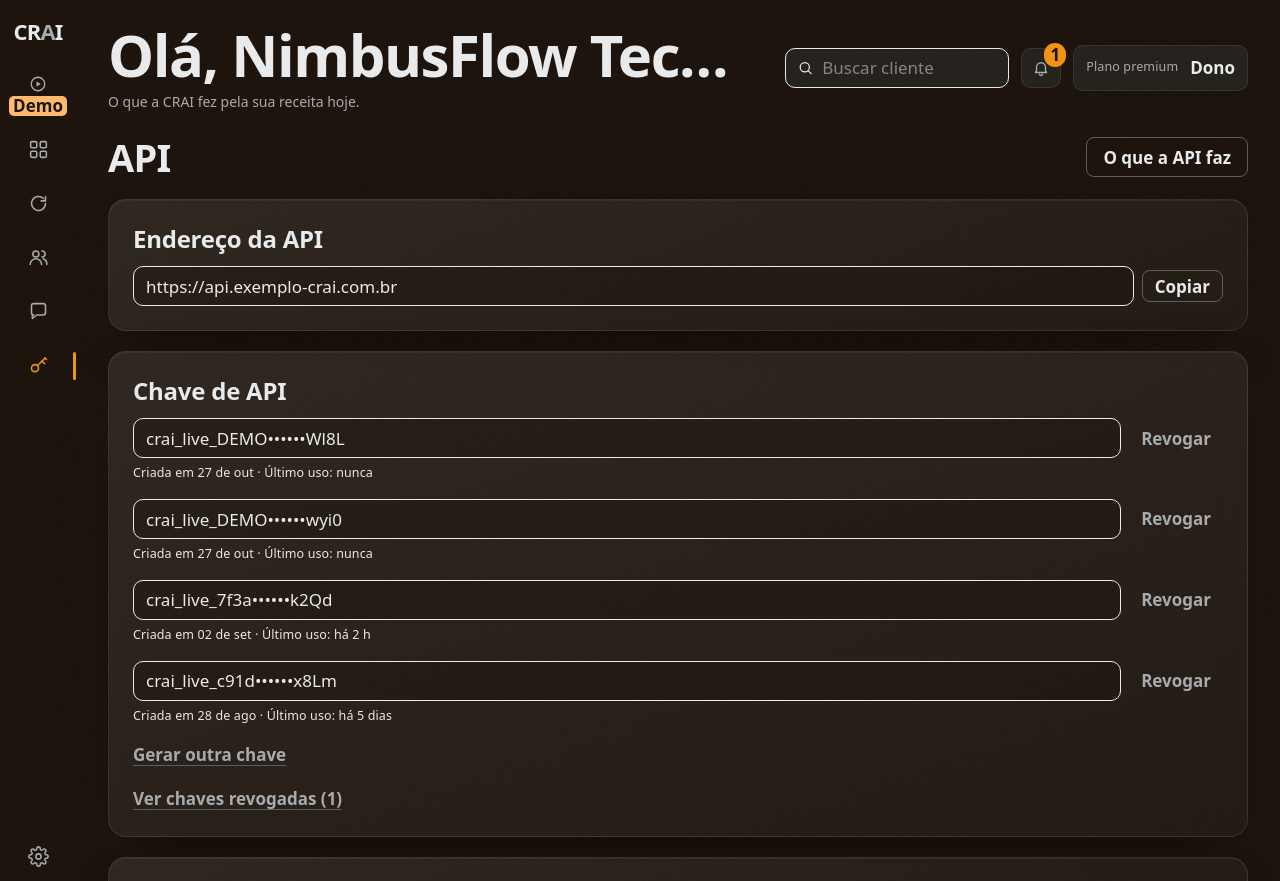
aba API em demonstração: gerar e revogar › revogar pede confirmação dentro da tela, nunca pelo confirm() do navegador
Primeiro clique: só a pergunta. Cancelar não revoga.
Click the 1st button "Revogar" at x=1176, y=438, box top-left (1129, 422), bottom-right (1223, 454)
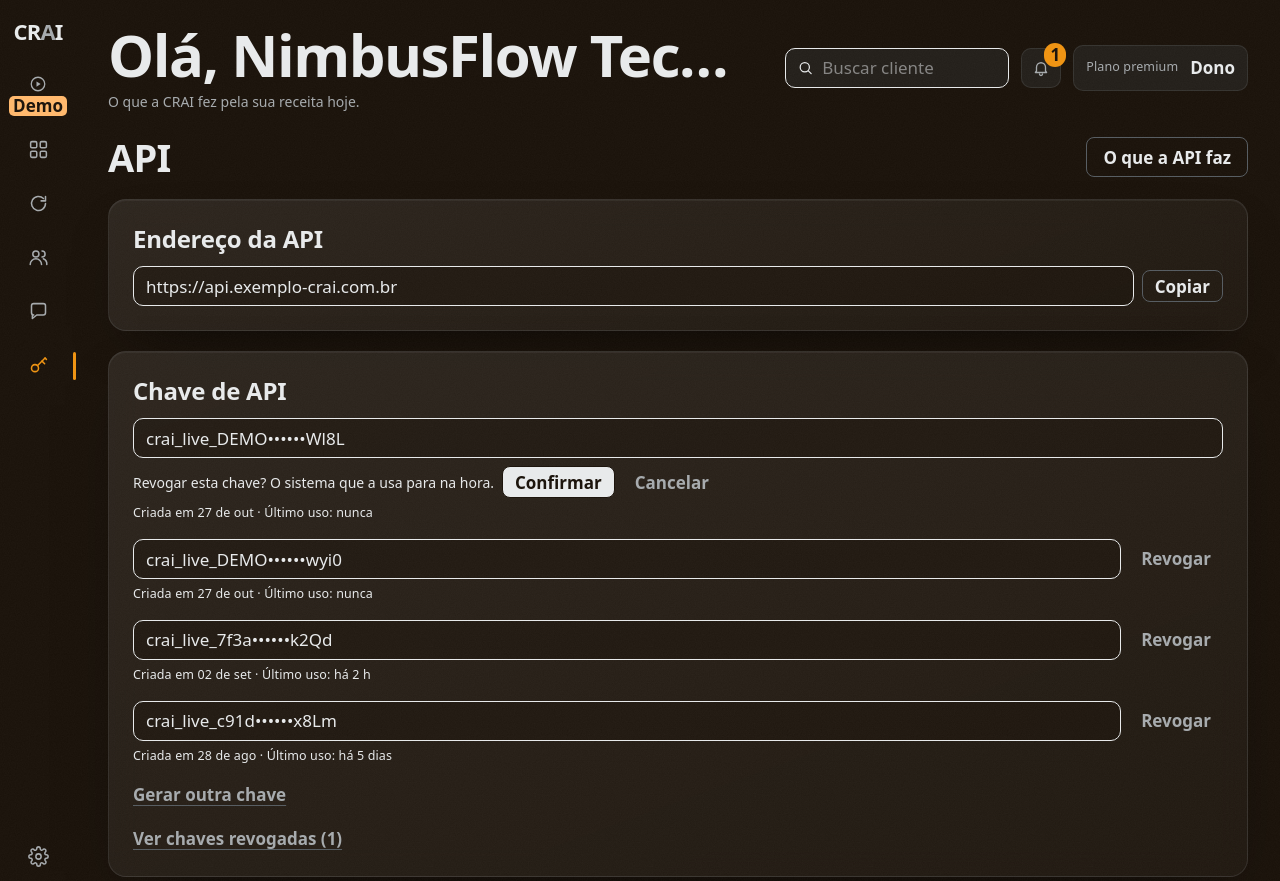
expect the text "Revogar esta chave? O sistema que a usa para na hora." is shown: met, box top-left (133, 472), bottom-right (494, 493)
Click the button "Cancelar" at x=672, y=482, box top-left (623, 466), bottom-right (721, 498)
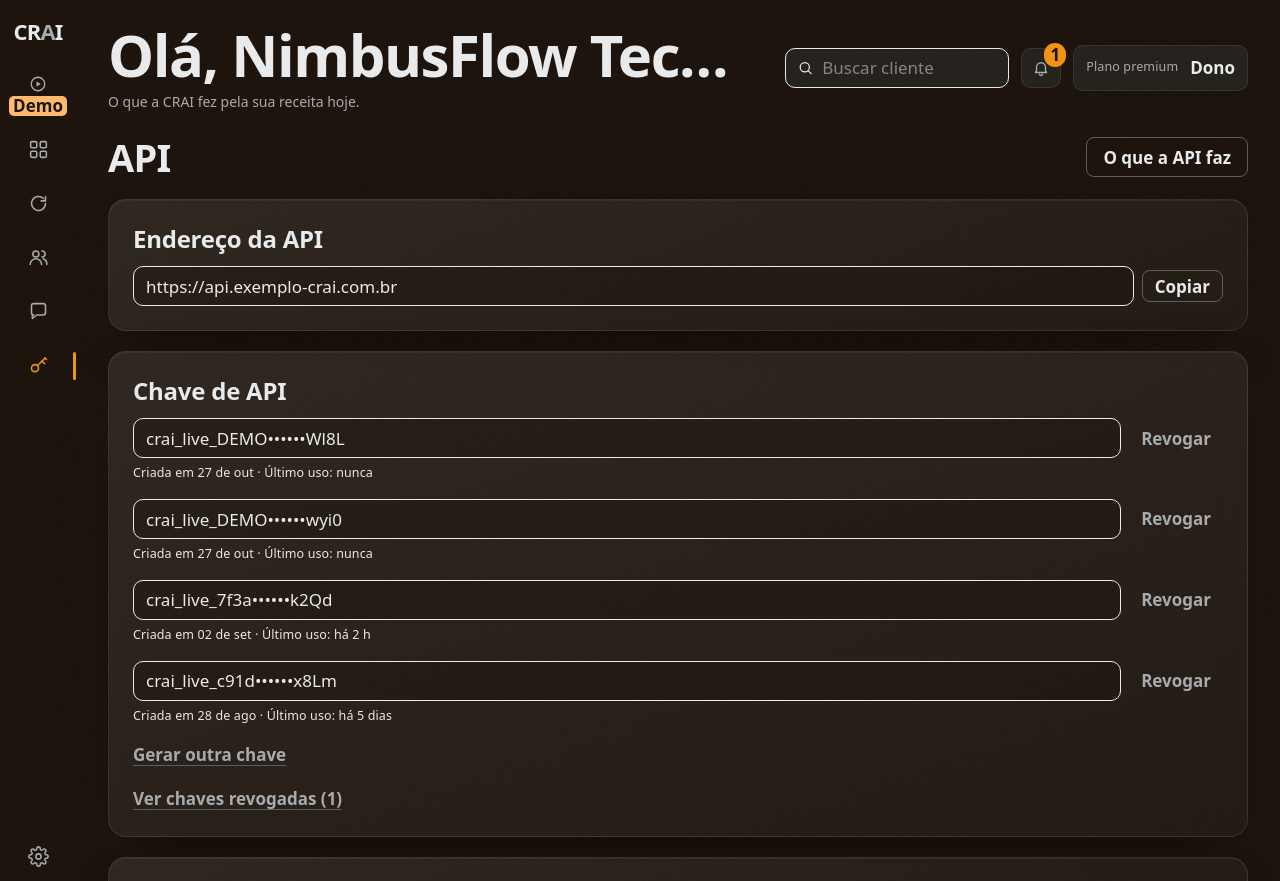
Confirmar revoga: o campo some das ativas e vai para as revogadas.
Click the 1st button "Revogar" at x=1176, y=438, box top-left (1129, 422), bottom-right (1223, 454)
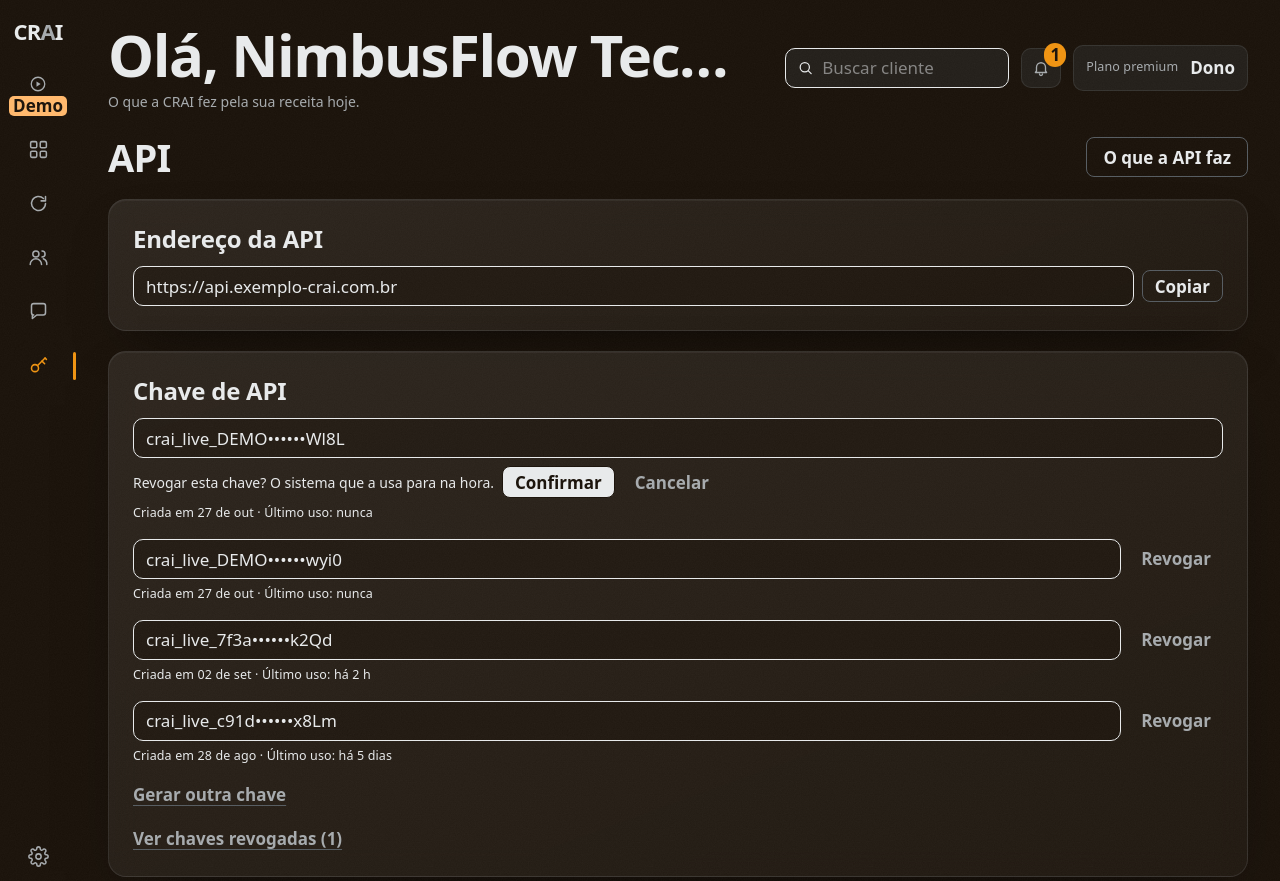
Click the button "Confirmar" at x=558, y=482, box top-left (502, 466), bottom-right (615, 498)
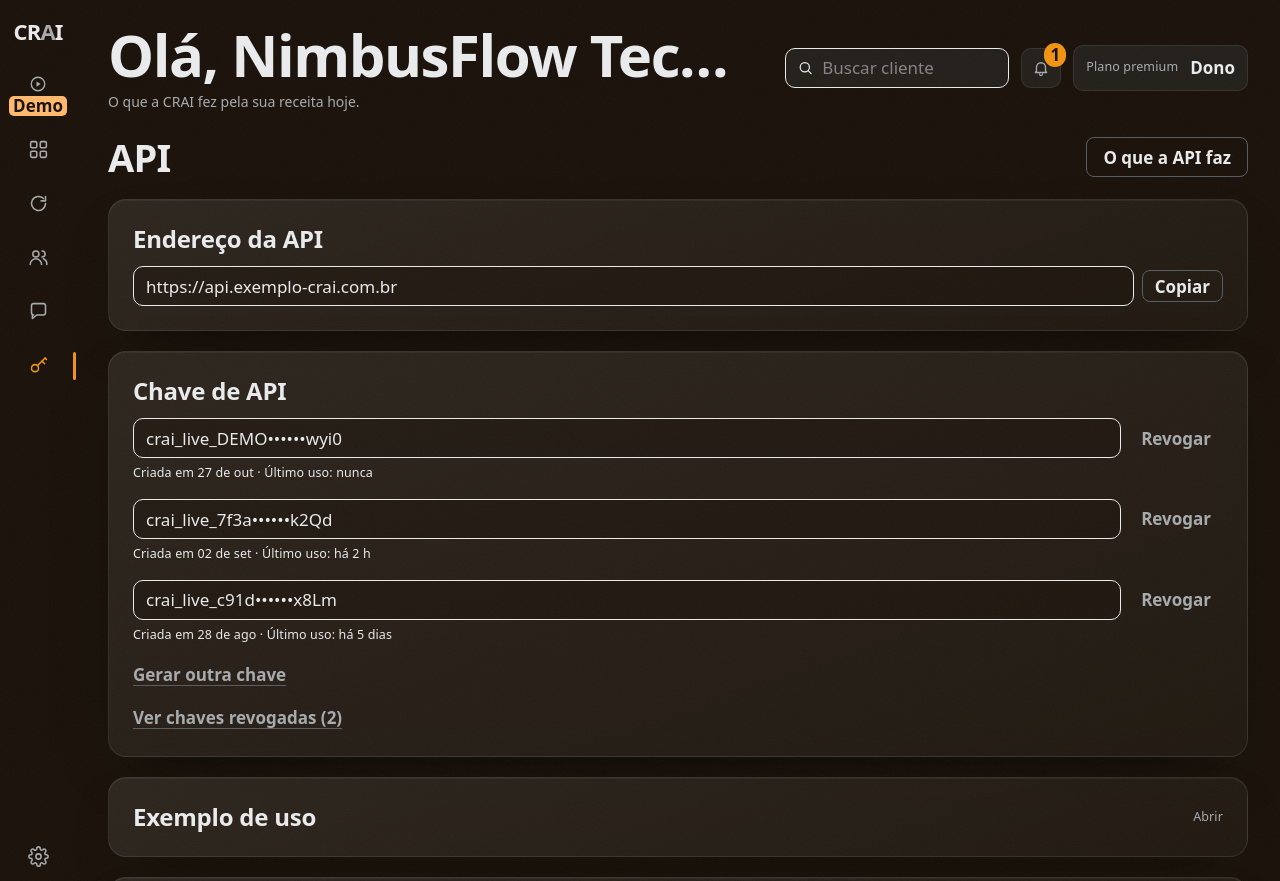
expect the button "Ver chaves revogadas (2)" is shown: met, box top-left (133, 704), bottom-right (342, 732)
